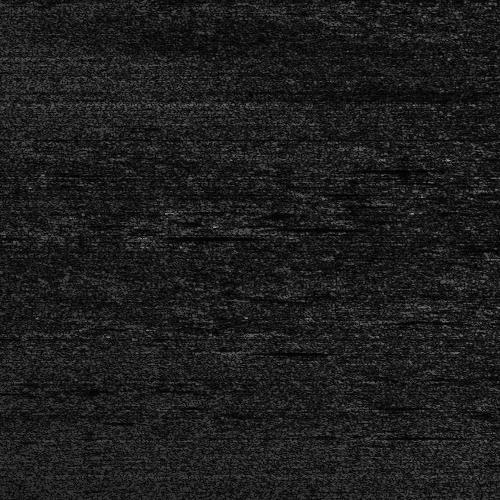object: (183, 221, 276, 230), (132, 228, 163, 249)
shadow: (229, 221, 354, 230), (148, 228, 171, 249)
